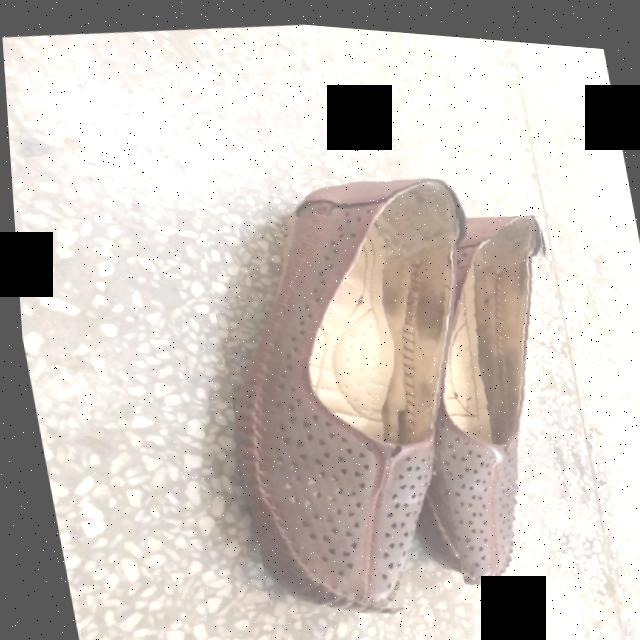shoe: (233, 168, 458, 604), (443, 206, 541, 578)
